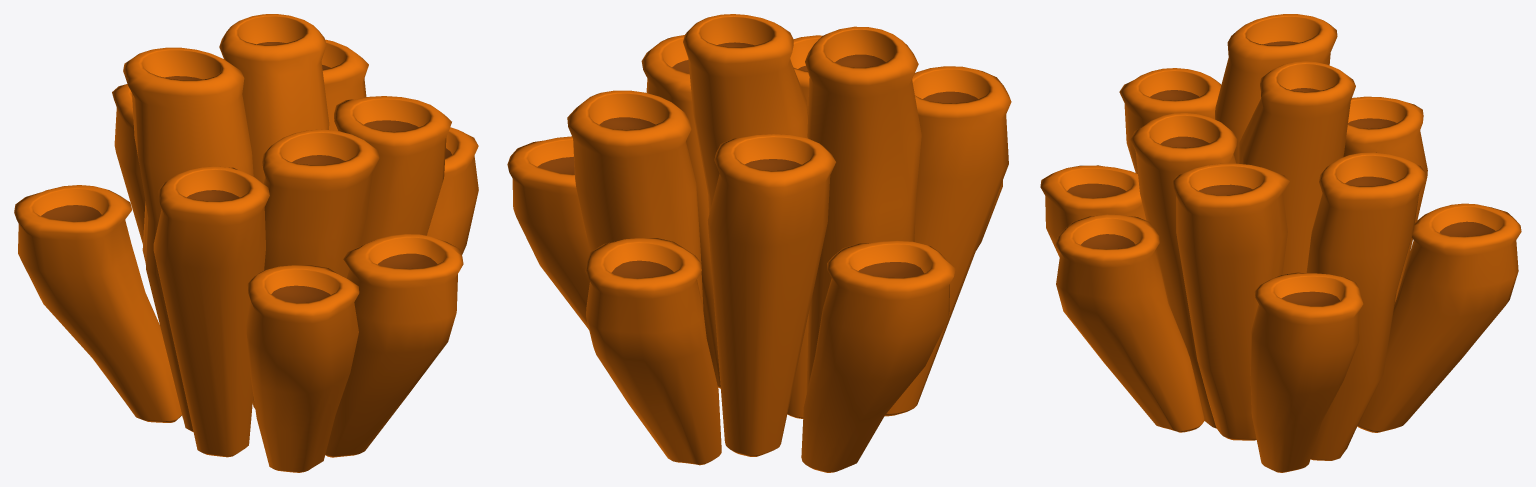
The model's file is SM_PlantCorals_Tube_Placeholder.fbx.
The picture shows the model from 3 angles, left to right: view 1: azimuth 30°, elevation 25°; view 2: azimuth 150°, elevation 25°; view 3: azimuth 270°, elevation 25°; orthographic projection. The views are drawn at different scales.
Visible parts, largest first — view 1: SM_PlantCorals_Tube; view 2: SM_PlantCorals_Tube; view 3: SM_PlantCorals_Tube.
Boxes of the visible parts, x1=… form: SM_PlantCorals_Tube: x1=14, y1=14, x2=478, y2=472; SM_PlantCorals_Tube: x1=507, y1=14, x2=1011, y2=472; SM_PlantCorals_Tube: x1=1040, y1=14, x2=1521, y2=472.
Size of the model in its own units: 236 by 199 by 244.
